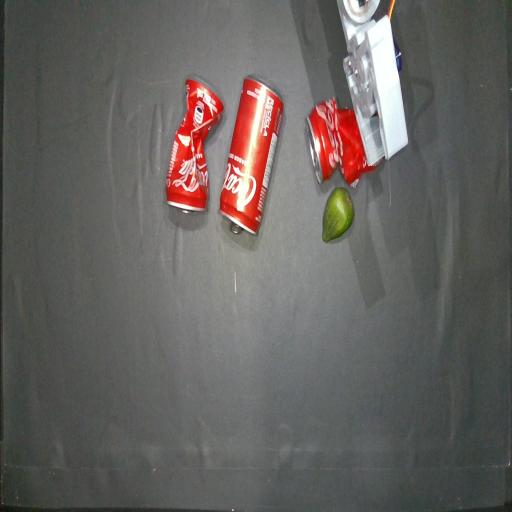higo: (322, 188, 354, 242)
lata: (219, 76, 283, 234)
lata_defectuoso: (166, 78, 223, 211), (306, 98, 373, 186)
